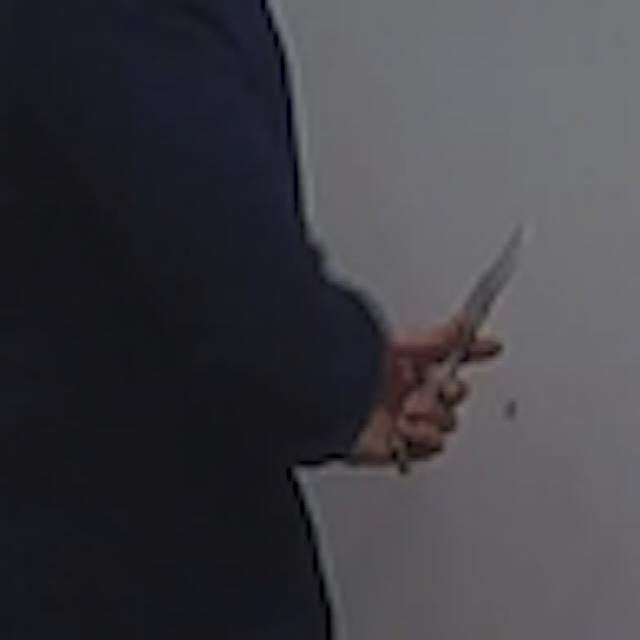suspicion: (26, 8, 541, 484), (460, 215, 534, 337)
